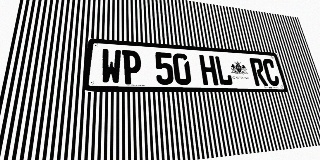0: (172, 53, 192, 85)
5: (155, 52, 174, 85)
C: (262, 59, 281, 86)
H: (199, 55, 219, 85)
L: (214, 56, 233, 85)
P: (122, 50, 142, 84)
R: (249, 58, 268, 86)
W: (100, 49, 121, 84)
